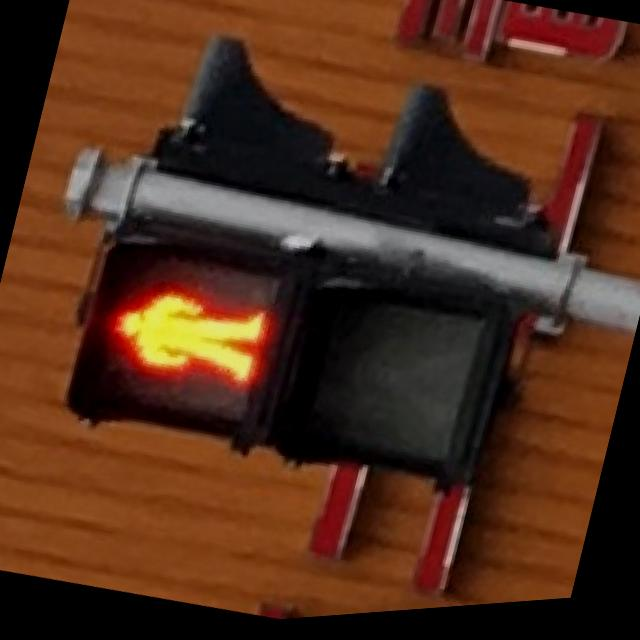red_light: (68, 227, 286, 445)
